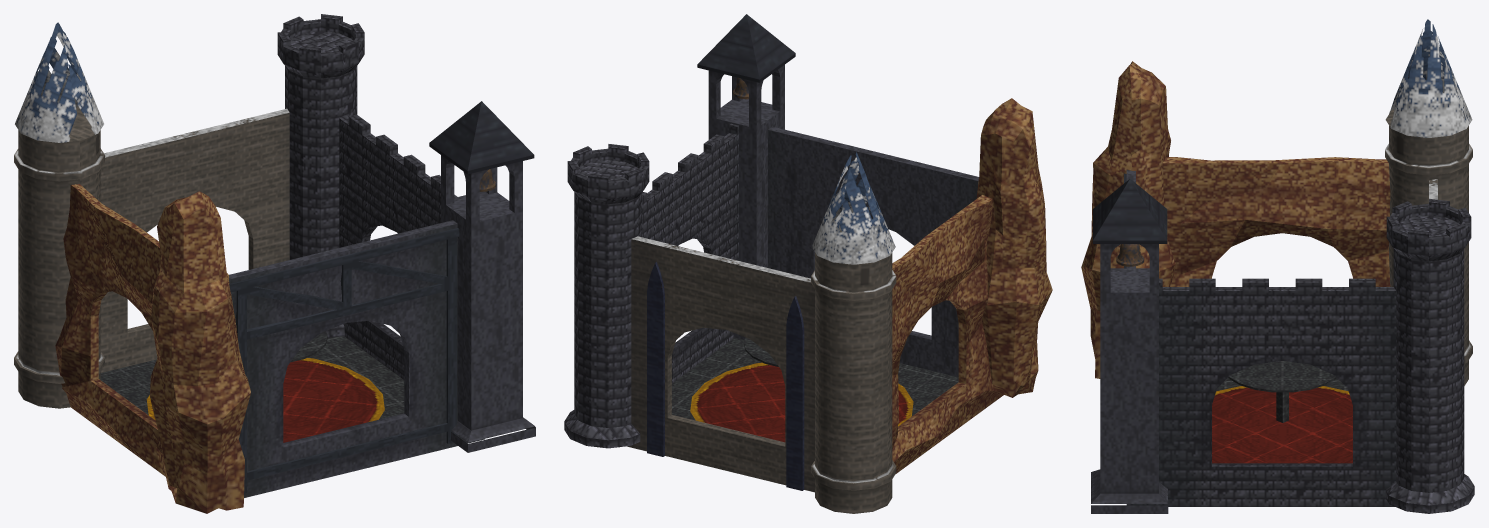
File: conferenceroom2.fbx
3 renders of one model, left to right at view 1: azimuth 30°, elevation 25°; view 2: azimuth 150°, elevation 25°; view 3: azimuth 270°, elevation 25°, orthographic. The views are drawn at different scales.
Parts seen in each view (by area): view 1: Walls, Rock, BellTower, MagicPillar, CastlePillar, Carpet, Ground, Cube, Cube.003, Cube.004, Cube.007, Cube.002 (+2 smaller); view 2: Walls, MagicPillar, CastlePillar, Rock, BellTower, MageDesign, Carpet, Ground; view 3: Walls, CastlePillar, BellTower, MagicPillar, Carpet, Rock, Table.
Boxes of the visible parts, <box> form: Walls: <box>55,108,484,497</box>; Rock: <box>150,191,250,513</box>; BellTower: <box>429,101,535,452</box>; MagicPillar: <box>14,22,104,408</box>; CastlePillar: <box>277,14,364,337</box>; Carpet: <box>146,358,384,442</box>; Ground: <box>100,336,404,419</box>; Cube: <box>229,228,459,292</box>; Cube.003: <box>446,237,456,443</box>; Cube.004: <box>247,283,447,339</box>; Cube.007: <box>247,423,447,480</box>; Cube.002: <box>235,288,246,493</box>; Walls: <box>627,123,1003,492</box>; MagicPillar: <box>811,152,896,513</box>; CastlePillar: <box>564,144,649,448</box>; Rock: <box>976,98,1052,397</box>; BellTower: <box>697,14,795,339</box>; MageDesign: <box>647,262,804,490</box>; Carpet: <box>690,362,913,442</box>; Ground: <box>672,337,958,420</box>; Walls: <box>1126,157,1437,506</box>; CastlePillar: <box>1385,199,1474,513</box>; BellTower: <box>1091,179,1168,513</box>; MagicPillar: <box>1385,19,1472,385</box>; Carpet: <box>1212,386,1352,463</box>; Rock: <box>1081,61,1175,378</box>; Table: <box>1228,361,1336,422</box>.
Bounding box in the file's own units: 43.55 × 43.97 × 42.95.
